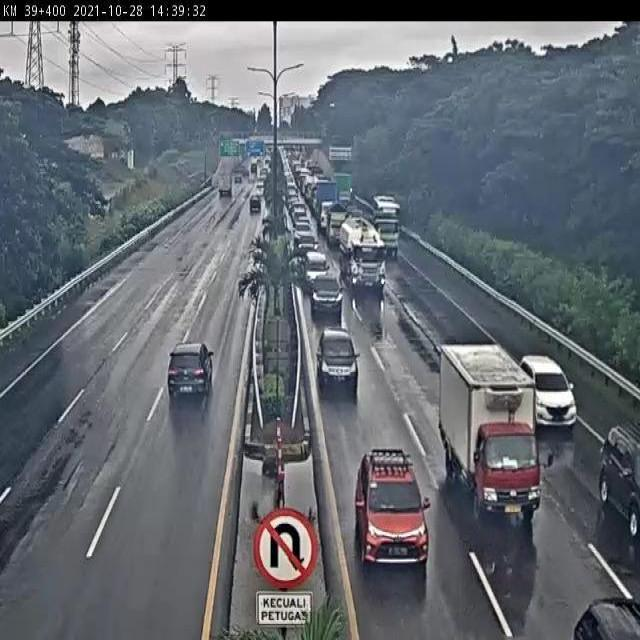car: (347, 427, 431, 571), (146, 318, 232, 422), (531, 570, 640, 640), (510, 340, 585, 435), (596, 399, 640, 547), (313, 316, 371, 407), (305, 265, 344, 316), (242, 192, 266, 217)
truck: (431, 331, 544, 528), (334, 216, 388, 304), (369, 207, 399, 257), (209, 168, 239, 203)
